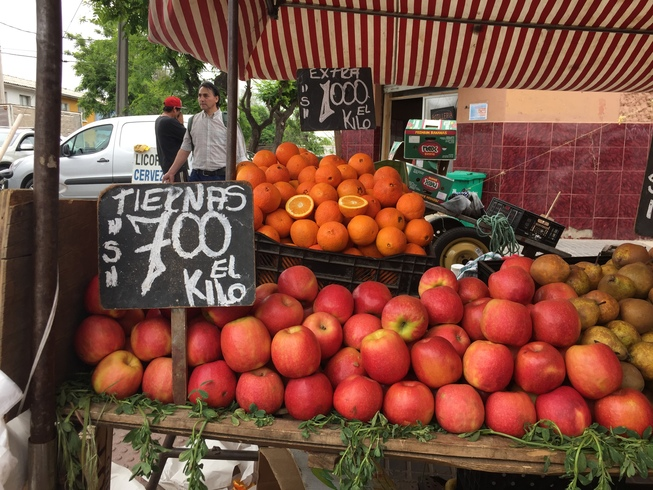precio: (92, 177, 265, 320), (291, 65, 382, 137)
